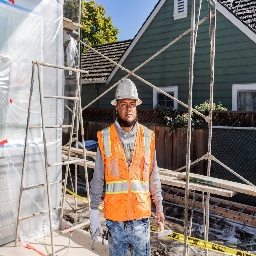helmet: (109, 78, 146, 113)
person: (92, 74, 160, 254)
vest: (94, 123, 156, 219)
